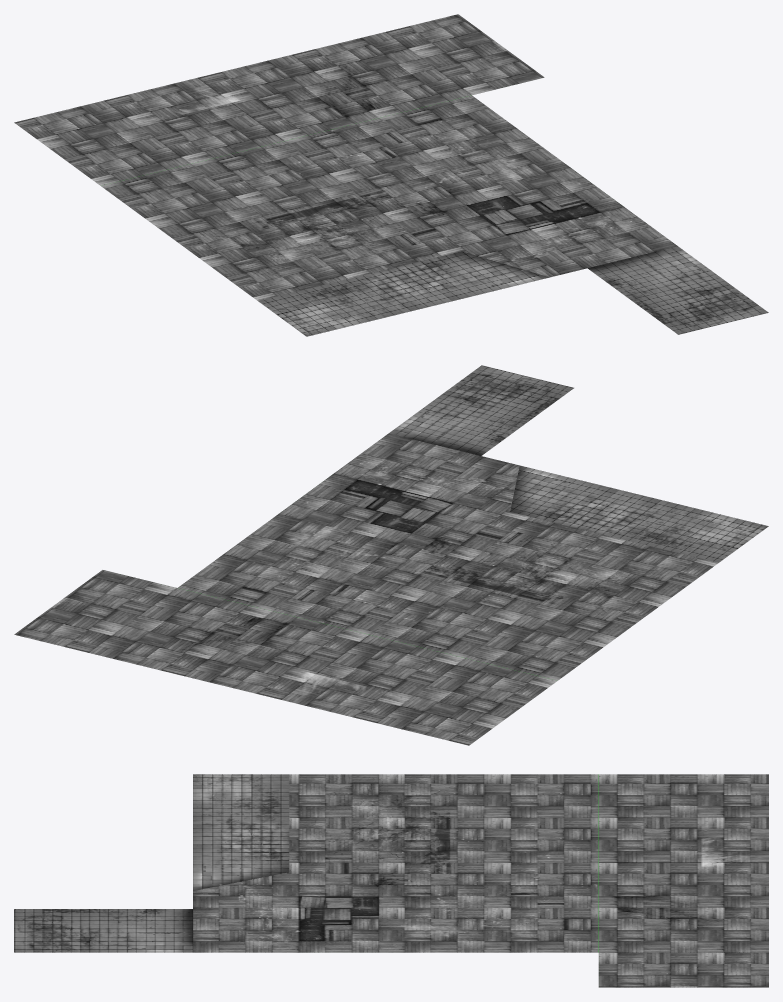
Rendered from apartment_floor.fbx.
3 views of the same model, one above another, from view 1: azimuth 30°, elevation 25°; view 2: azimuth 150°, elevation 25°; view 3: azimuth 270°, elevation 25° (orthographic). The views are drawn at different scales.
Parts seen in each view (by area): view 1: Plane011; view 2: Plane011; view 3: Plane011.
Part boxes in pixels (x1,y1,x2,y2): Plane011: [14, 14, 768, 336]; Plane011: [14, 365, 768, 745]; Plane011: [14, 774, 768, 987].
Size of the model in its own units: 923 by 8.45e-14 by 1380.
